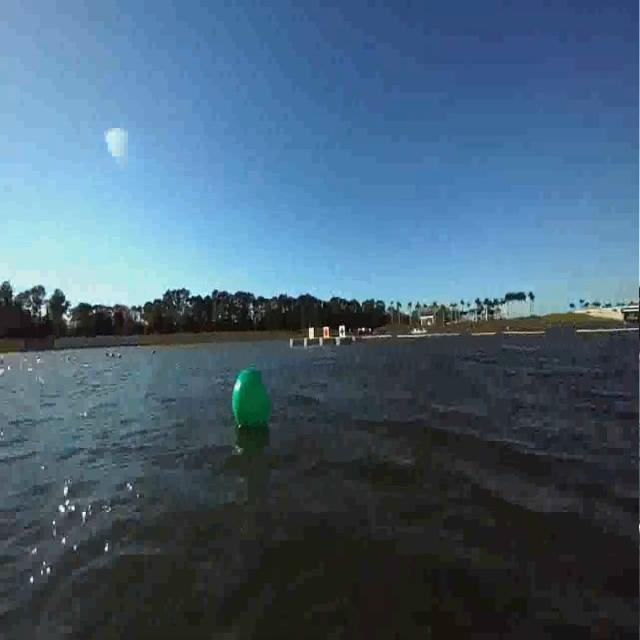green-buoy: (230, 366, 273, 432)
